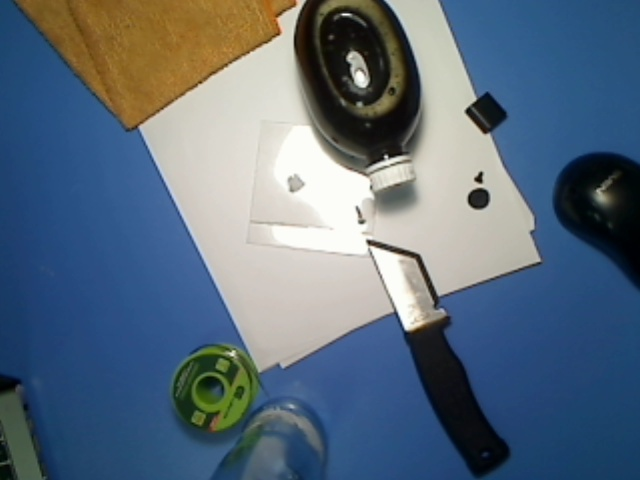plast_bottle: (290, 1, 428, 198)
